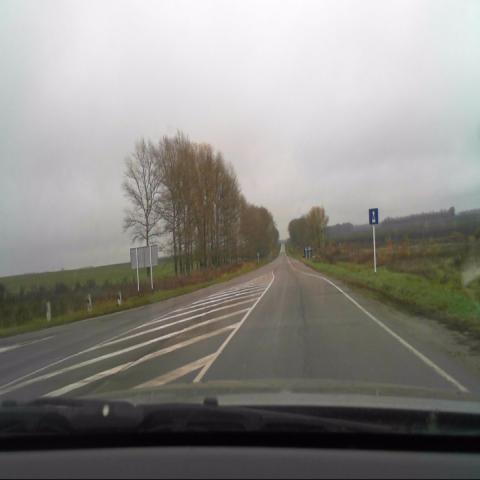5_14: (369, 207, 378, 225)
